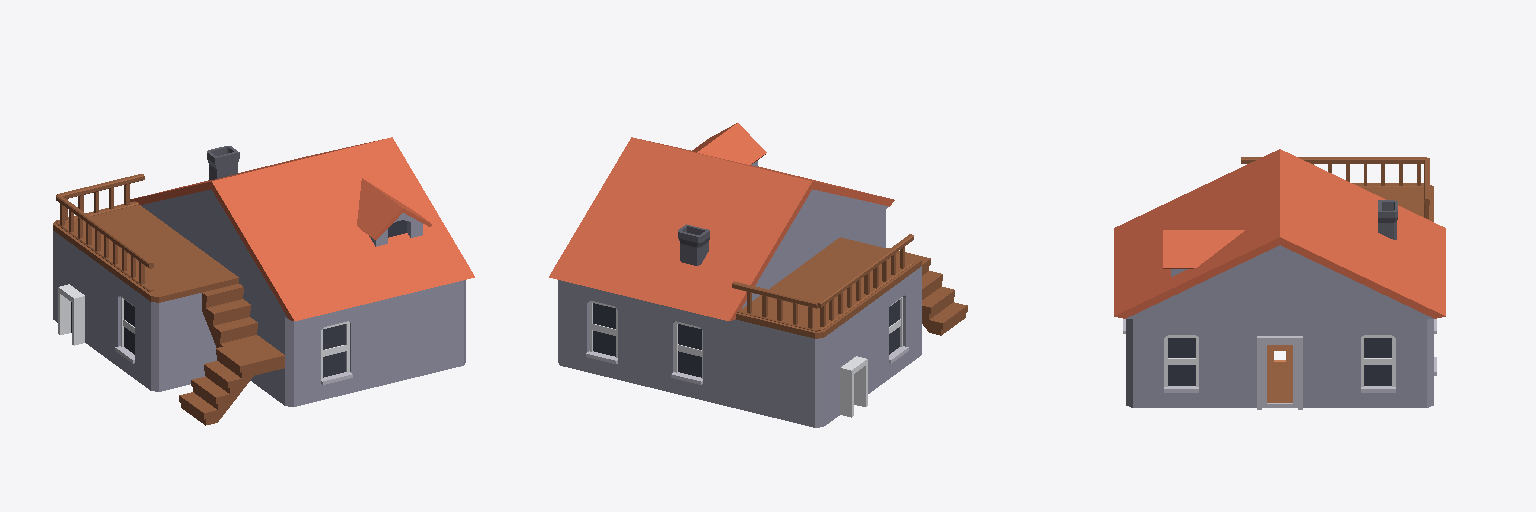
Rendered from house2.obj.
The picture shows the model from 3 angles: view 1: azimuth 30°, elevation 25°; view 2: azimuth 150°, elevation 25°; view 3: azimuth 270°, elevation 25°; orthographic projection.
Size of the model in its own units: 3.31 by 1.92 by 3.38.